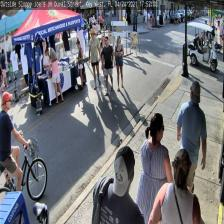person: (93, 146, 145, 224), (147, 148, 201, 223), (176, 80, 206, 192)
